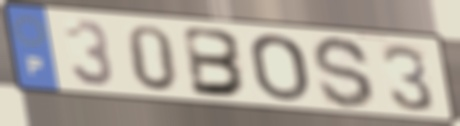0: (123, 23, 181, 93)
3: (380, 40, 437, 114), (61, 18, 116, 90)
B: (181, 24, 251, 100)
O: (247, 32, 312, 104)
S: (310, 33, 378, 111)
